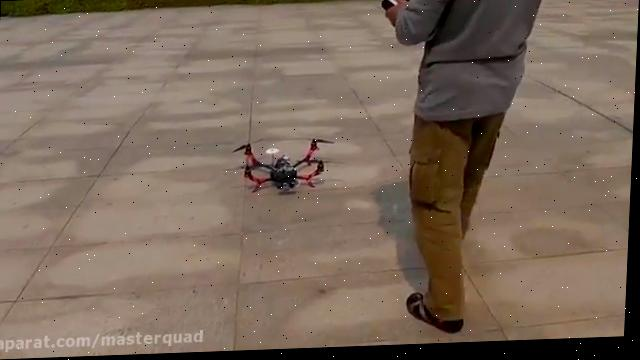drone: (230, 133, 342, 196)
